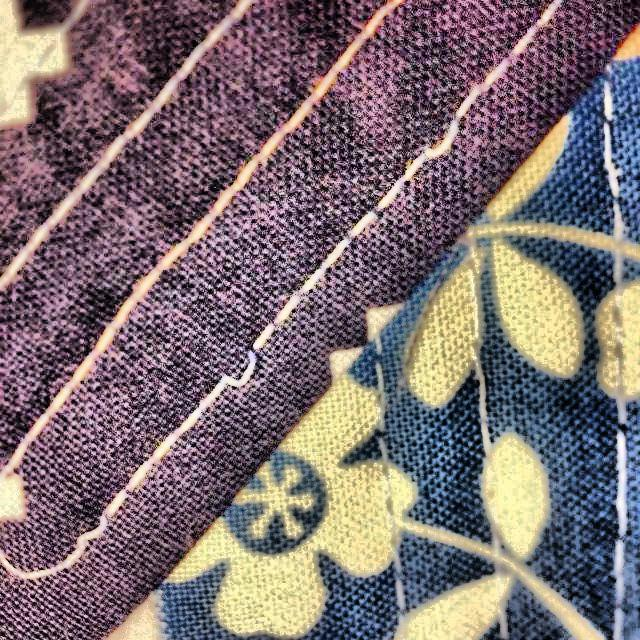Stitch: (373, 76, 513, 189), (190, 311, 298, 423)
